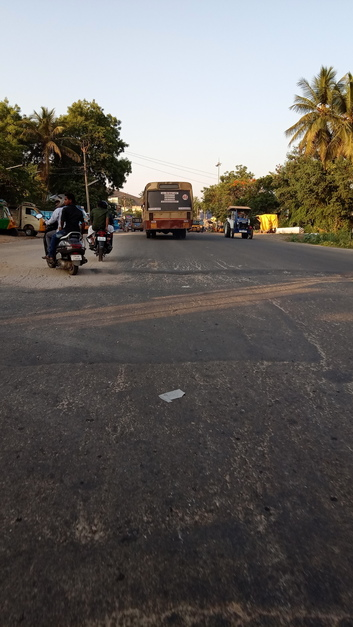bump: (1, 263, 351, 277)
